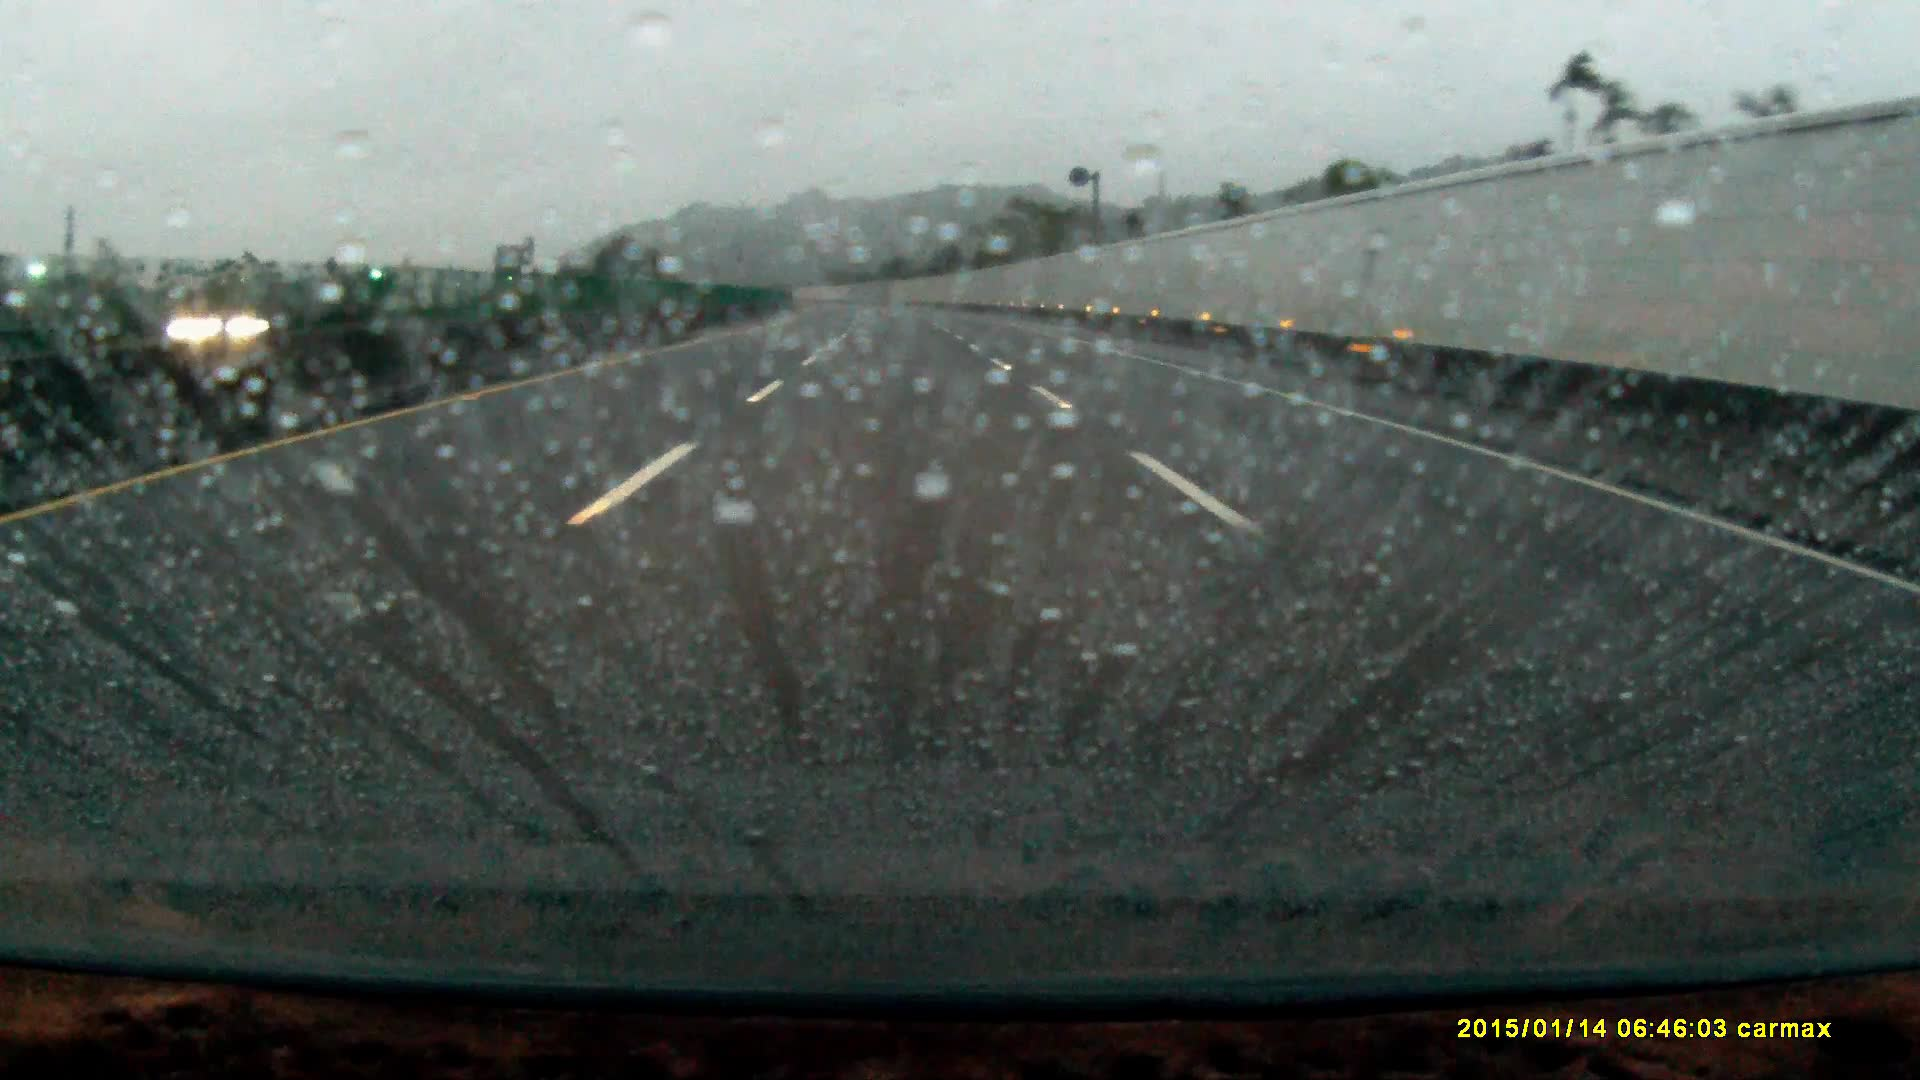vehicle: (166, 290, 287, 343)
